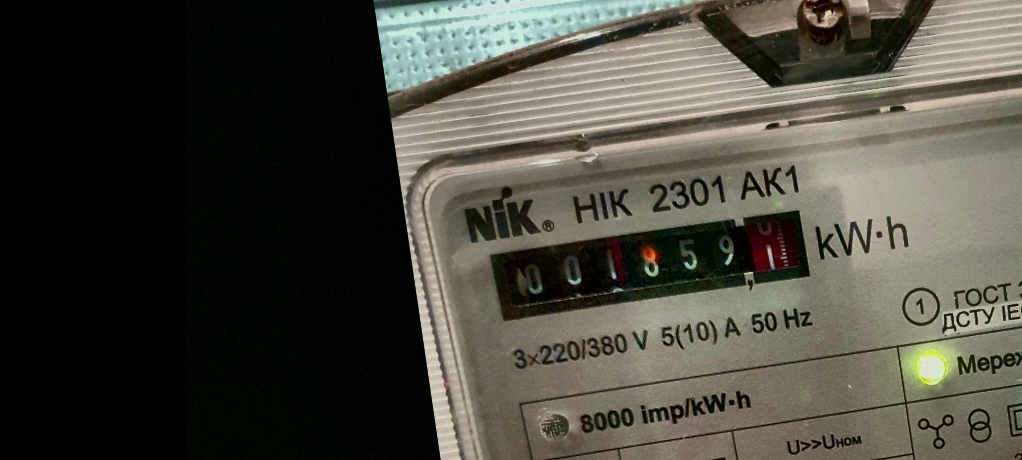0: (522, 259, 546, 297), (561, 251, 585, 287)
1: (604, 245, 620, 282), (762, 240, 779, 271)
5: (677, 234, 702, 272)
8: (639, 242, 663, 279)
9: (715, 231, 739, 267)
screen: (478, 195, 823, 333)
